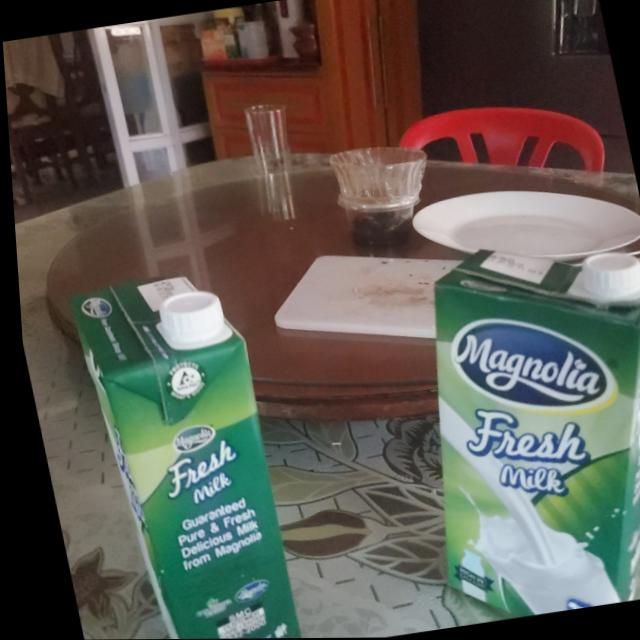milk: (365, 221, 640, 626), (61, 254, 302, 640)
